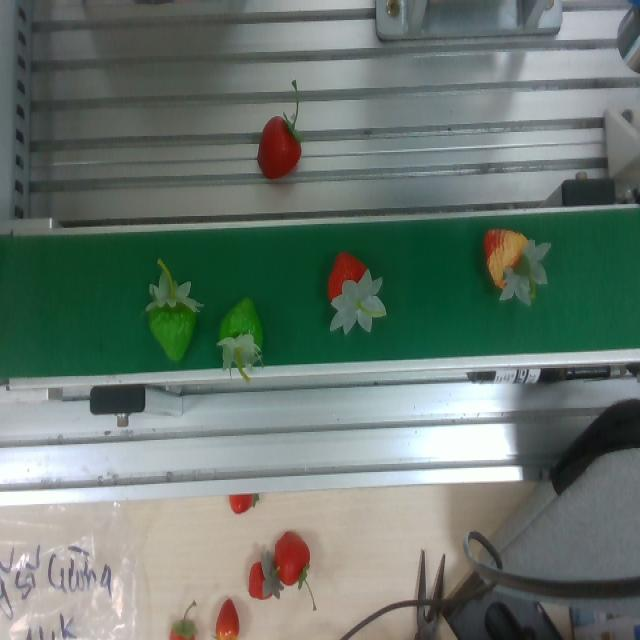Moldy Strawberry: (476, 224, 554, 308)
Small Ripe Strawberry: (322, 242, 387, 330)
Small Unripe Strawberry: (138, 269, 206, 367), (216, 289, 280, 374)
conveyor: (1, 205, 640, 379)
